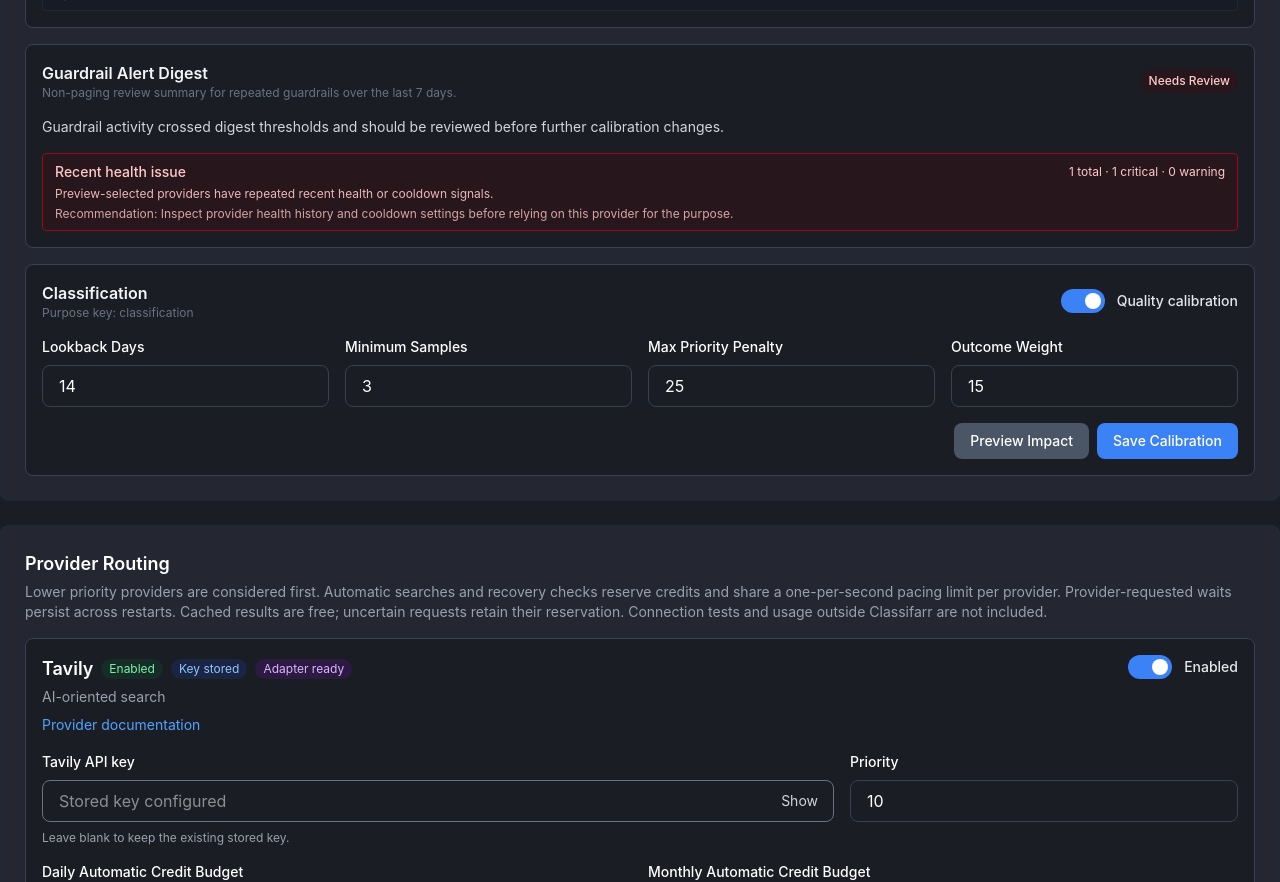
Test: WebSearchProviders settings view › previews purpose-specific calibration impact before saving
(page scrolled)
Click the button "Preview Impact".
click(1022, 441)  # box [954,423,1089,459]
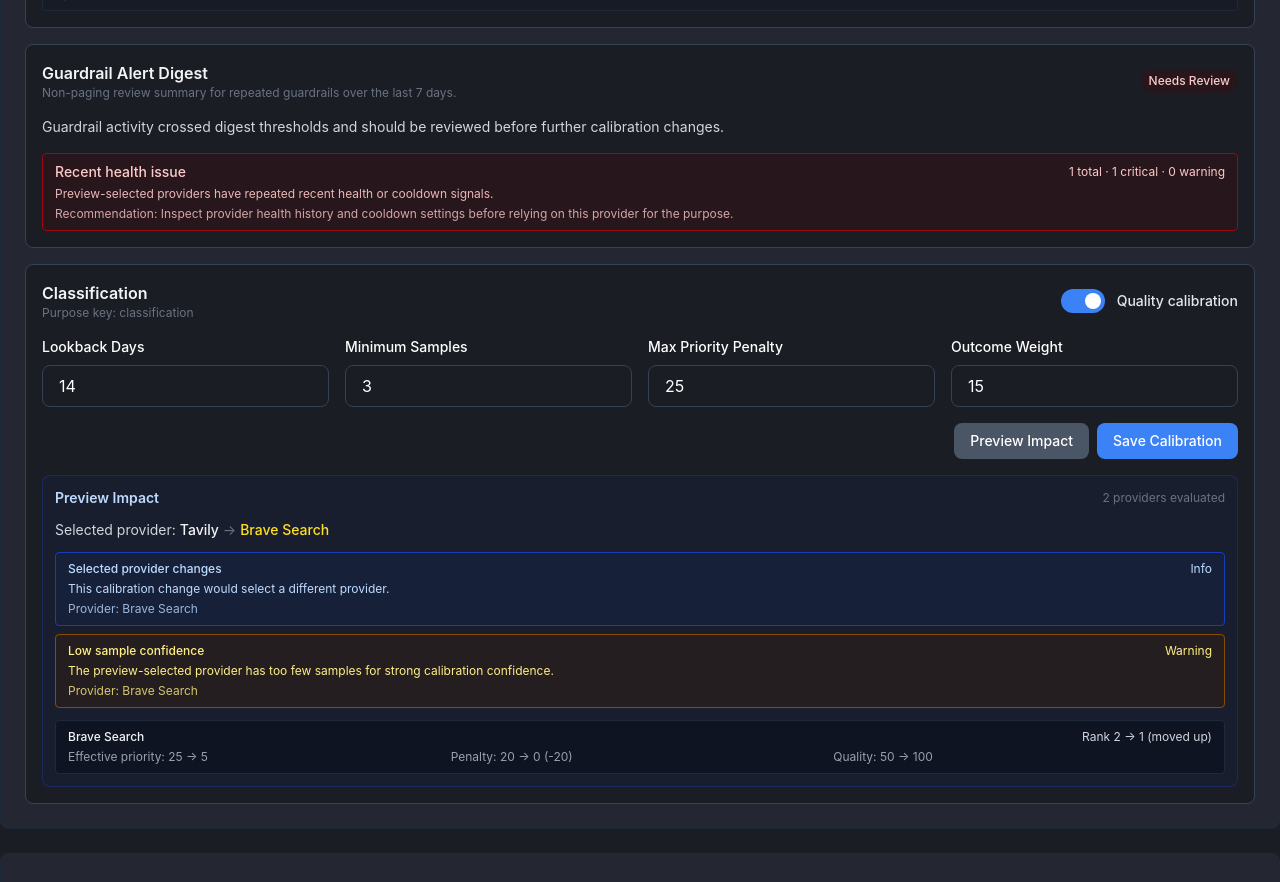
expect the text "Selected provider:" is shown: met, box [55,521,180,538]
expect the text "Selected provider changes" is shown: met, box [68,561,222,577]
expect the text "The preview-selected provider has too few samples" is shown: met, box [68,663,554,678]
